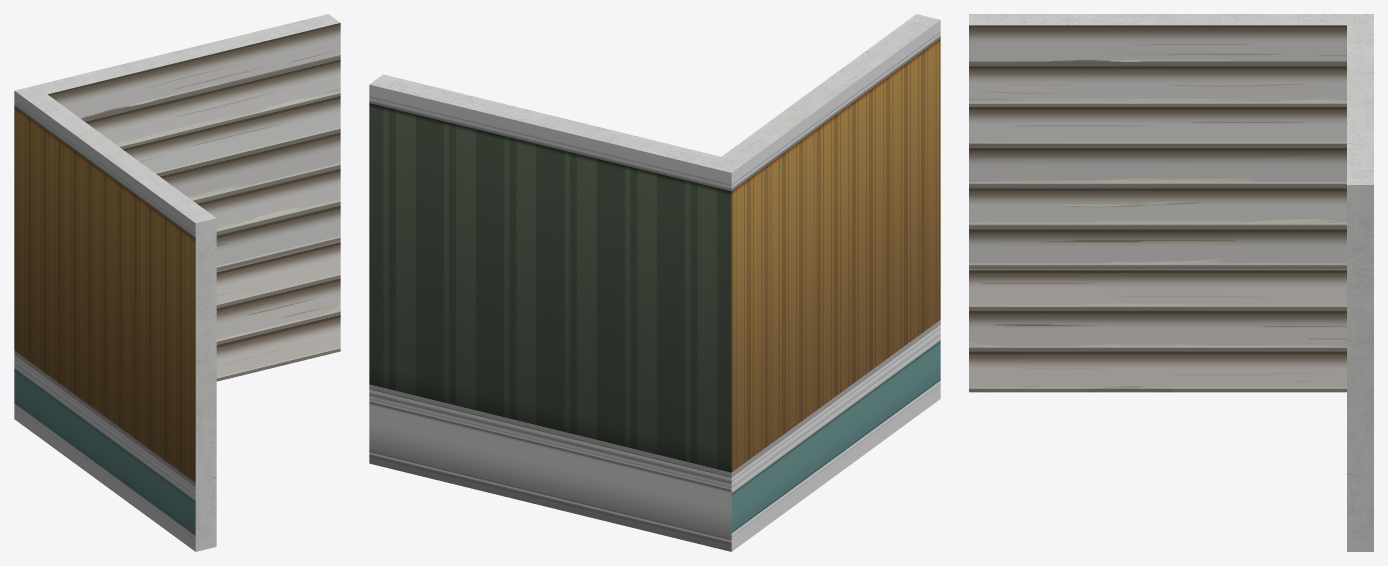
Rendered from wall01_corner_A.fbx.
The picture shows the model from 3 angles, left to right: view 1: azimuth 30°, elevation 25°; view 2: azimuth 150°, elevation 25°; view 3: azimuth 270°, elevation 25°; orthographic projection. The views are drawn at different scales.
Visible parts, largest first — view 1: wall01_corner_A; view 2: wall01_corner_A; view 3: wall01_corner_A.
Boxes of the visible parts, <box> form: wall01_corner_A: <box>14,14,340,551</box>; wall01_corner_A: <box>369,14,940,551</box>; wall01_corner_A: <box>969,14,1373,551</box>.
Size of the model in its own units: 300 by 300 by 300.
